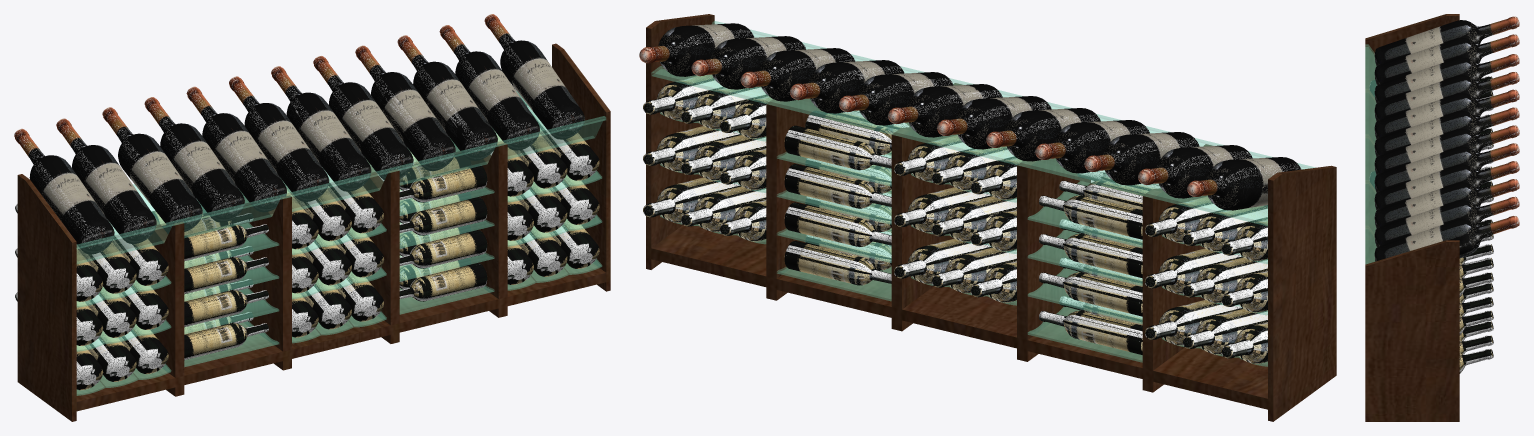
File: wine.dae
3 renders of one model, left to right at view 1: azimuth 30°, elevation 25°; view 2: azimuth 150°, elevation 25°; view 3: azimuth 270°, elevation 25°, orthographic. The views are drawn at different scales.
Parts seen in each view (by area): view 1: group_1 (×12), ID75 (×35), Component_6 (×2), Component_17 (×4), Component_16 (×2), Component_23, ID185 (×8), Component_4 (×8); view 2: ID75 (×35), group_1 (×12), Component_17 (×4), Component_16 (×2), Component_6 (×2), ID185 (×8), Component_4 (×8), Component_23; view 3: group_1 (×12), Component_6 (×2), ID75 (×9), Component_23, Component_17 (×4).
Boxes of the visible parts, bbox=[...] form: group_1 (×12): bbox=[14, 14, 584, 254]; ID75 (×35): bbox=[15, 85, 599, 390]; Component_6 (×2): bbox=[17, 43, 610, 421]; Component_17 (×4): bbox=[148, 138, 507, 377]; Component_16 (×2): bbox=[76, 263, 606, 411]; Component_23: bbox=[76, 91, 605, 264]; ID185 (×8): bbox=[162, 213, 268, 360]; Component_4 (×8): bbox=[184, 187, 494, 366]; ID75 (×35): bbox=[643, 74, 1267, 363]; group_1 (×12): bbox=[639, 23, 1301, 210]; Component_17 (×4): bbox=[766, 83, 1212, 370]; Component_16 (×2): bbox=[651, 224, 1267, 409]; Component_6 (×2): bbox=[646, 14, 1336, 421]; ID185 (×8): bbox=[1039, 180, 1147, 354]; Component_4 (×8): bbox=[777, 151, 1142, 362]; Component_23: bbox=[651, 21, 1315, 226]; group_1 (×12): bbox=[1374, 16, 1519, 261]; Component_6 (×2): bbox=[1365, 14, 1459, 421]; ID75 (×9): bbox=[1459, 244, 1493, 373]; Component_23: bbox=[1365, 44, 1376, 264]; Component_17 (×4): bbox=[1365, 88, 1376, 264].
Bounding box in the file's own units: 120 × 34.35 × 47.05.
Materials: 5 (3 with a texture image).
